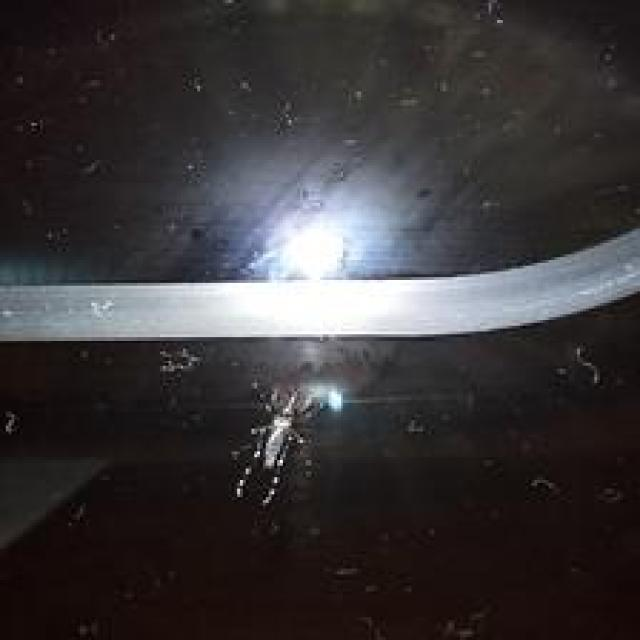Aedes albopictus: (227, 382, 327, 542)
